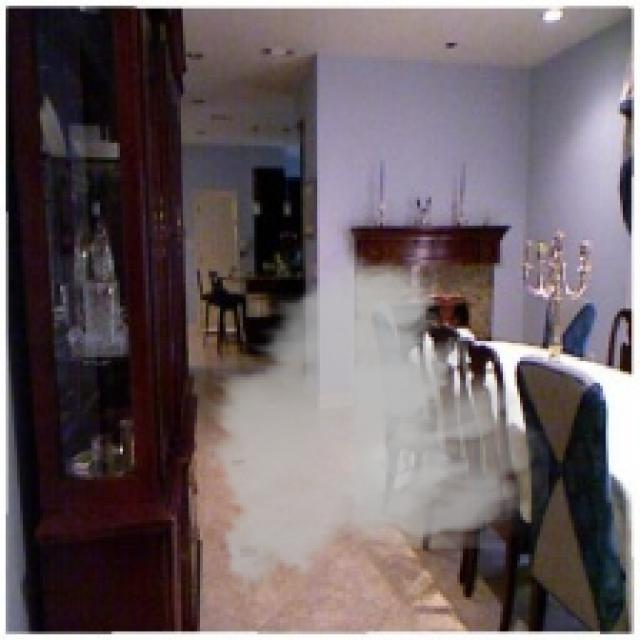Smoke: (200, 240, 549, 603)
